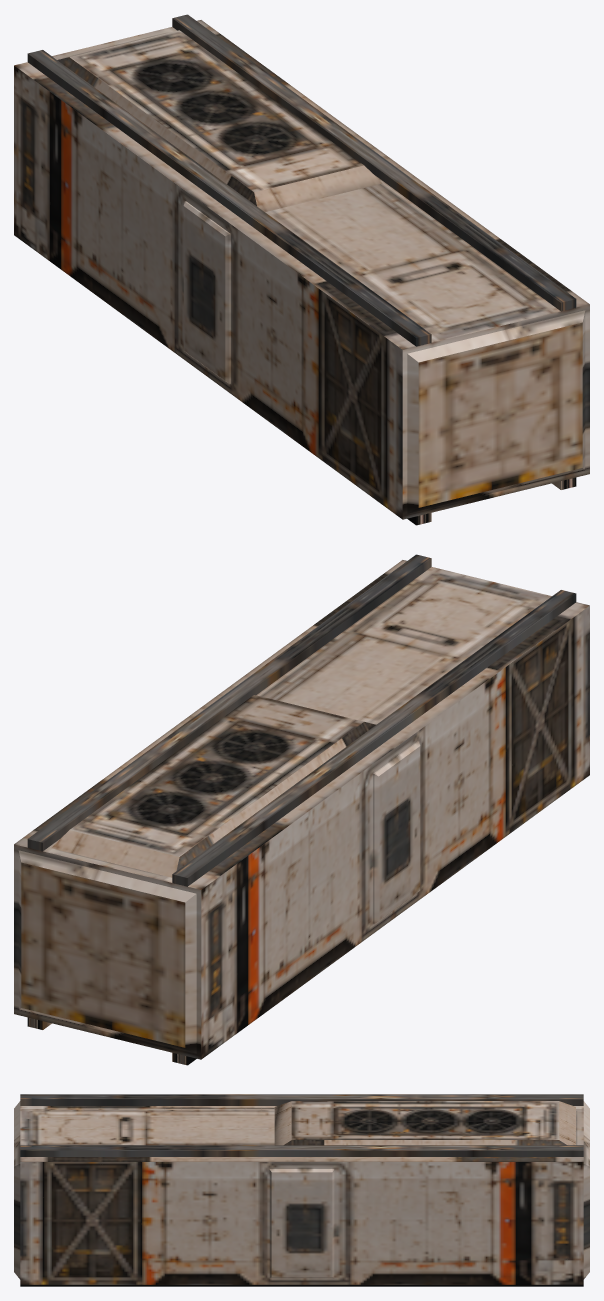
The model's file is train_car_prop_02.dae.
The picture shows the model from 3 angles, top to bottom: view 1: azimuth 30°, elevation 25°; view 2: azimuth 150°, elevation 25°; view 3: azimuth 270°, elevation 25°; orthographic projection. The views are drawn at different scales.
Visible parts, largest first — view 1: train_car_prop_02; view 2: train_car_prop_02; view 3: train_car_prop_02.
Boxes of the visible parts, x1,y1,x2,y2 form: train_car_prop_02: (14,14,589,525); train_car_prop_02: (14,554,589,1065); train_car_prop_02: (14,1094,589,1286).
Size of the model in its own units: 7.49 by 26.45 by 6.98.
